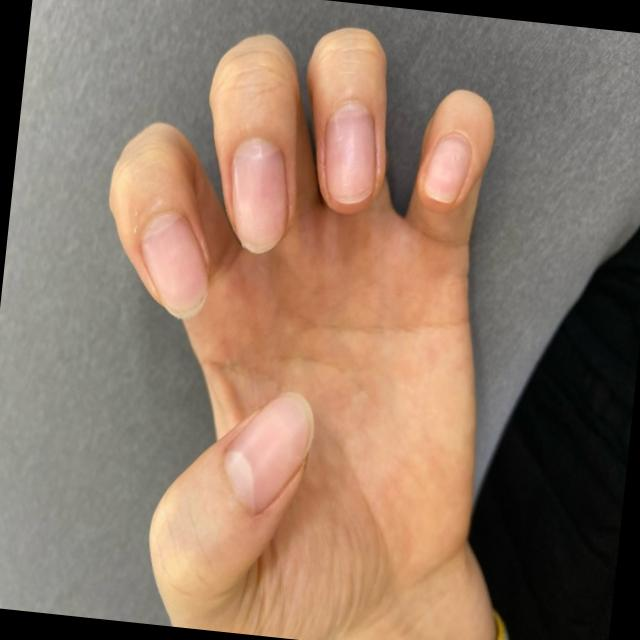Nail: (223, 389, 313, 515), (140, 207, 210, 318), (230, 136, 288, 254), (326, 97, 377, 205), (421, 125, 471, 201)
